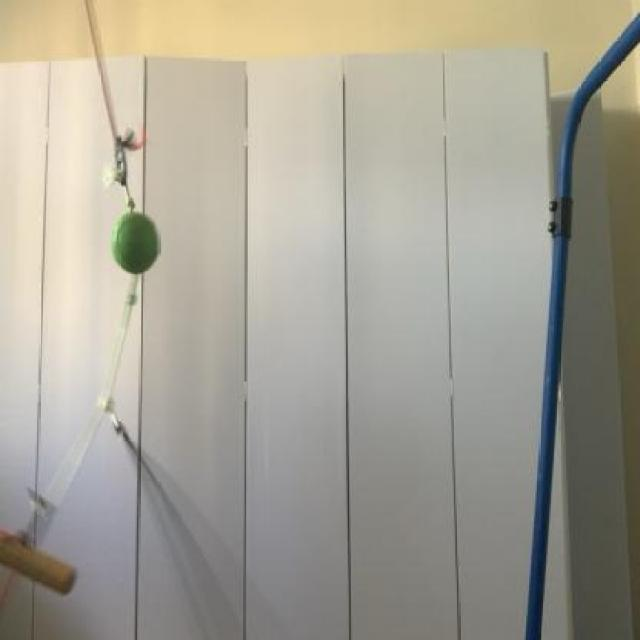baseball: (97, 200, 163, 282)
